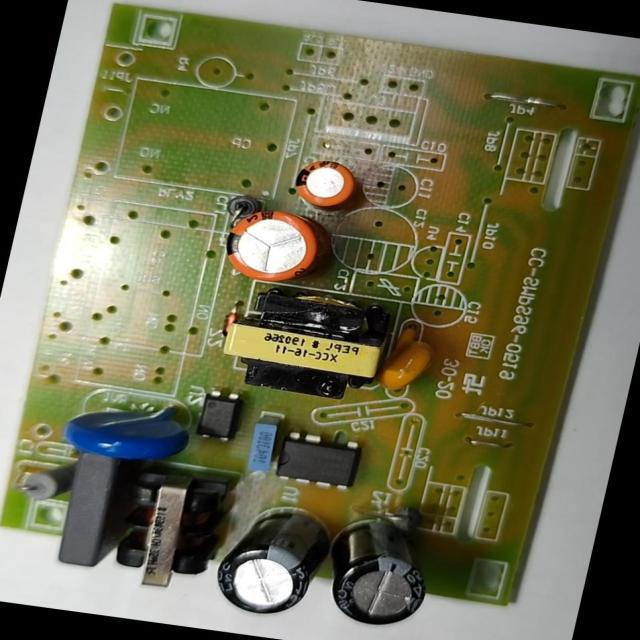Cap1: (213, 199, 336, 290)
Cap2: (287, 152, 365, 213)
Cap3: (204, 498, 341, 626)
Cap4: (318, 508, 450, 632)
MOSFET: (266, 426, 367, 496)
Mov: (52, 387, 200, 470)
Resistor: (14, 452, 81, 507)
Transformer: (211, 282, 404, 407), (102, 462, 243, 601)
